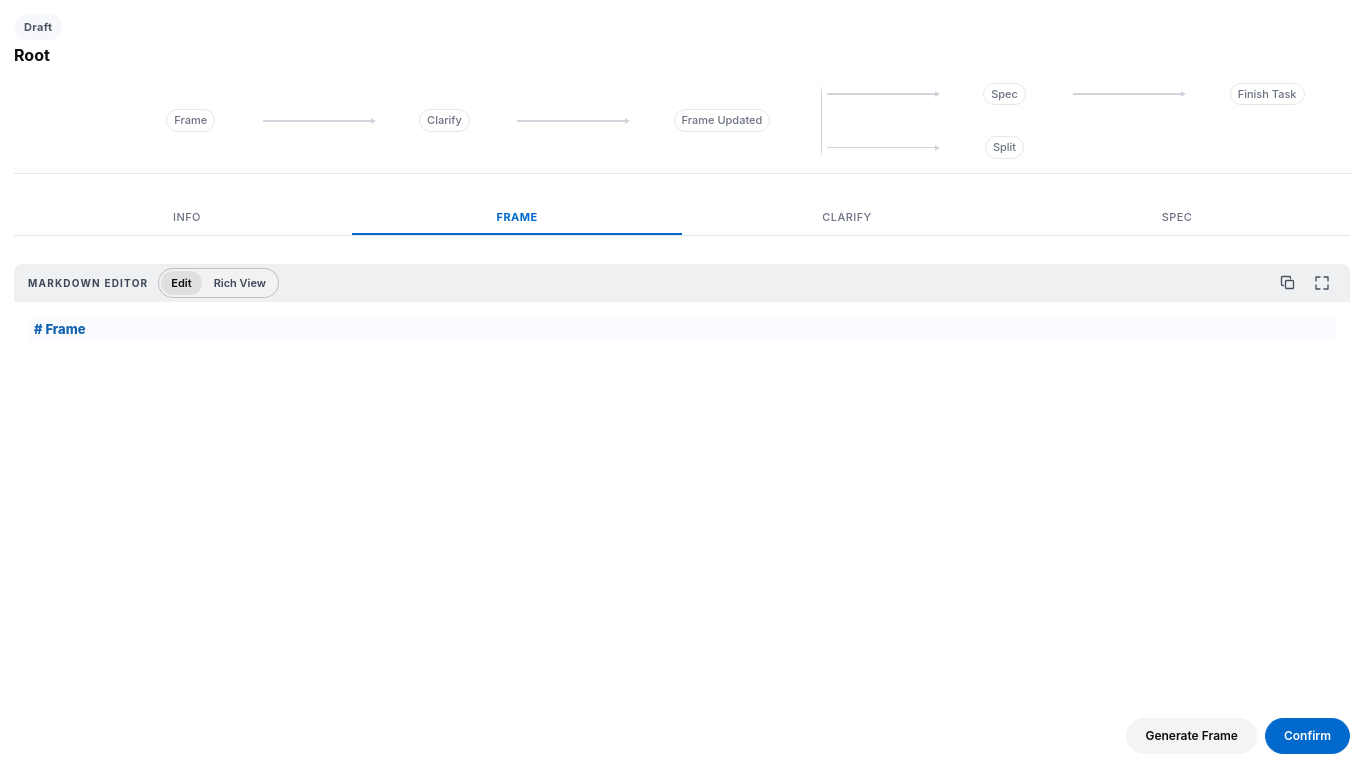
Test: NodeDetailCard › attaches to active job instead of showing error when generation is already running
This screenshot has width=1366, height=768.
What coordinates should you click on to do the following:
click the button with test id "generate-frame-button"
I would click on:
 (1192, 736)
Its box is [1126,718,1257,754].
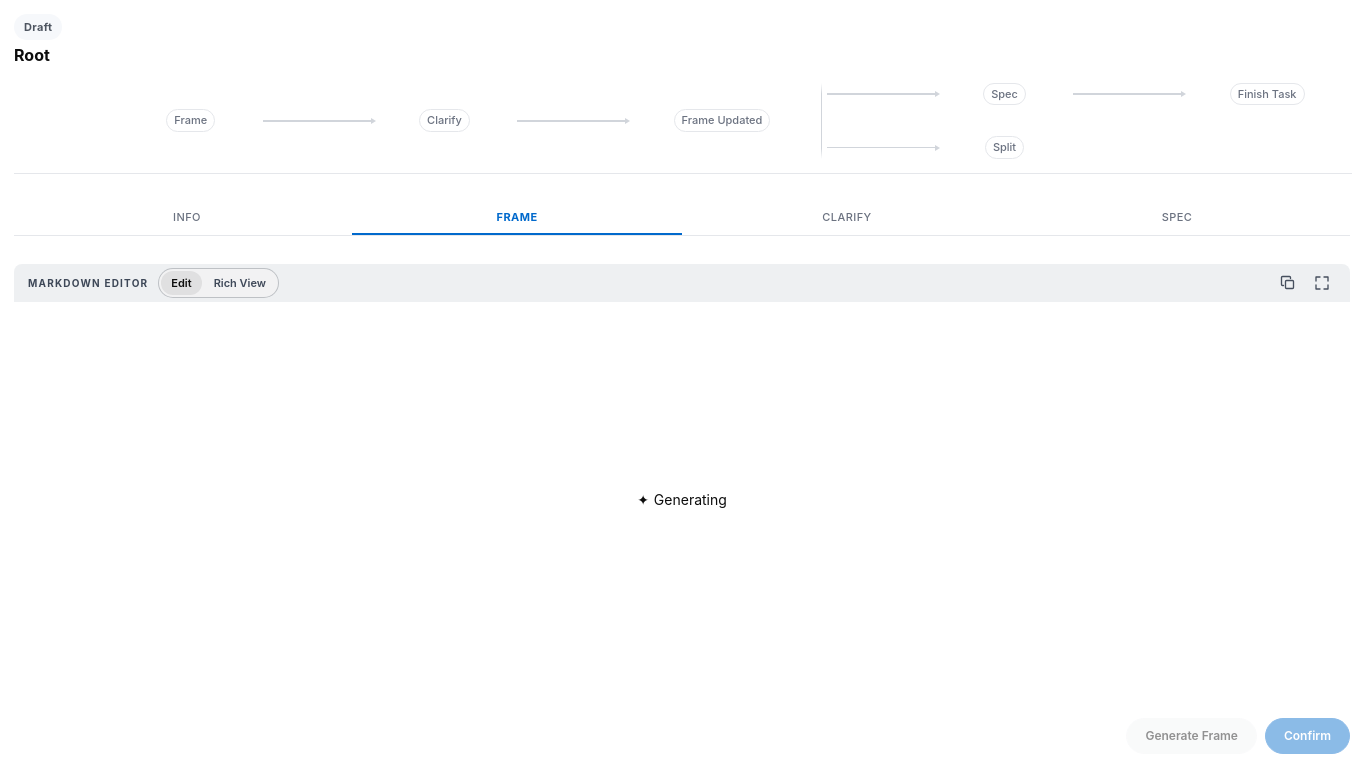
Now the element with test id "document-generating-frame" is shown, box [637,491,727,508]
